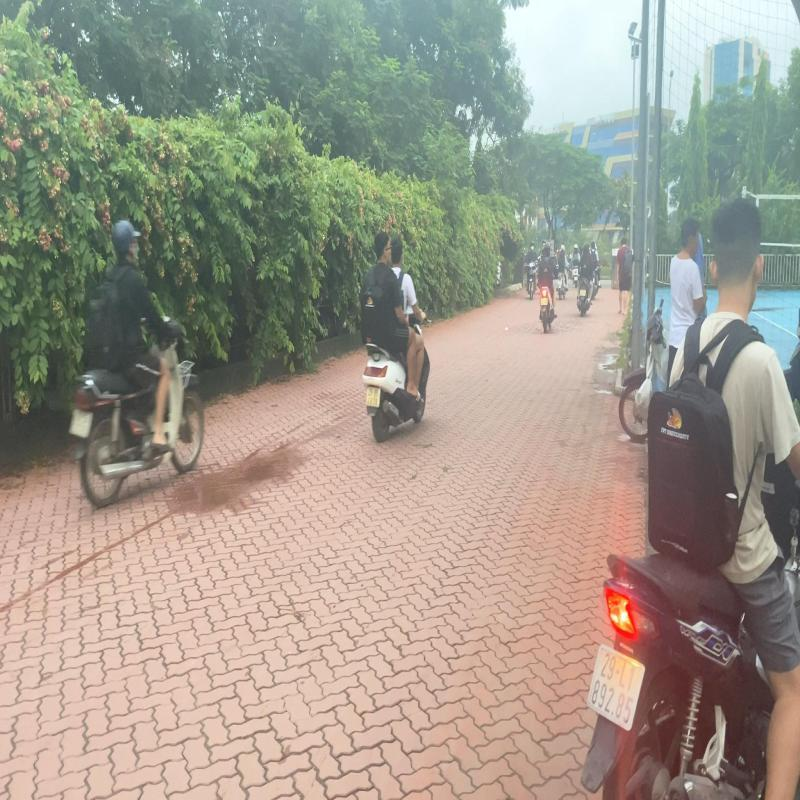licenseplate: (586, 643, 648, 736), (366, 387, 380, 407)
motorcyclist: (575, 183, 800, 800), (358, 229, 434, 443)
nohelmet: (710, 195, 763, 316), (373, 231, 390, 263), (390, 235, 404, 264)
